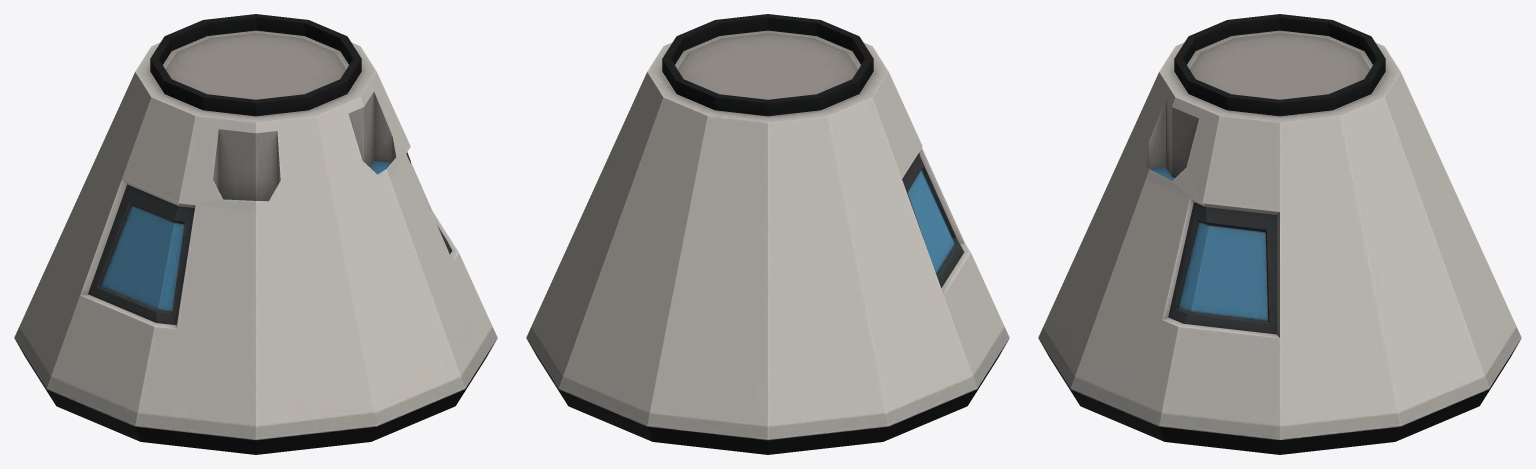
The model's file is 5m29ktvPyZy.glb.
3 views of the same model, side by side, from view 1: azimuth 30°, elevation 25°; view 2: azimuth 150°, elevation 25°; view 3: azimuth 270°, elevation 25° (orthographic).
Visible parts, largest first — view 1: Mk12CommandPod_mesh; view 2: Mk12CommandPod_mesh; view 3: Mk12CommandPod_mesh.
Boxes of the visible parts, <box> form: Mk12CommandPod_mesh: <box>14,14,497,454</box>; Mk12CommandPod_mesh: <box>526,14,1009,454</box>; Mk12CommandPod_mesh: <box>1038,14,1521,454</box>.
Size of the model in its own units: 1.34 by 1 by 1.34.
Materials: 1 (1 with a texture image).
